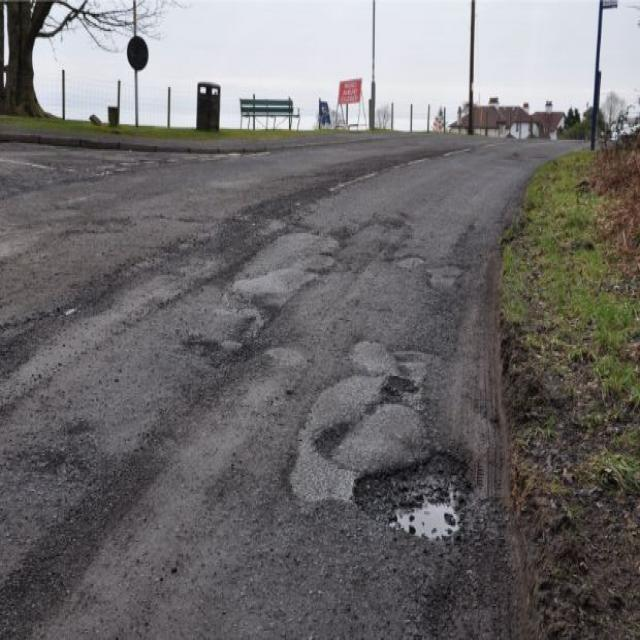pothole: (351, 452, 474, 541)
